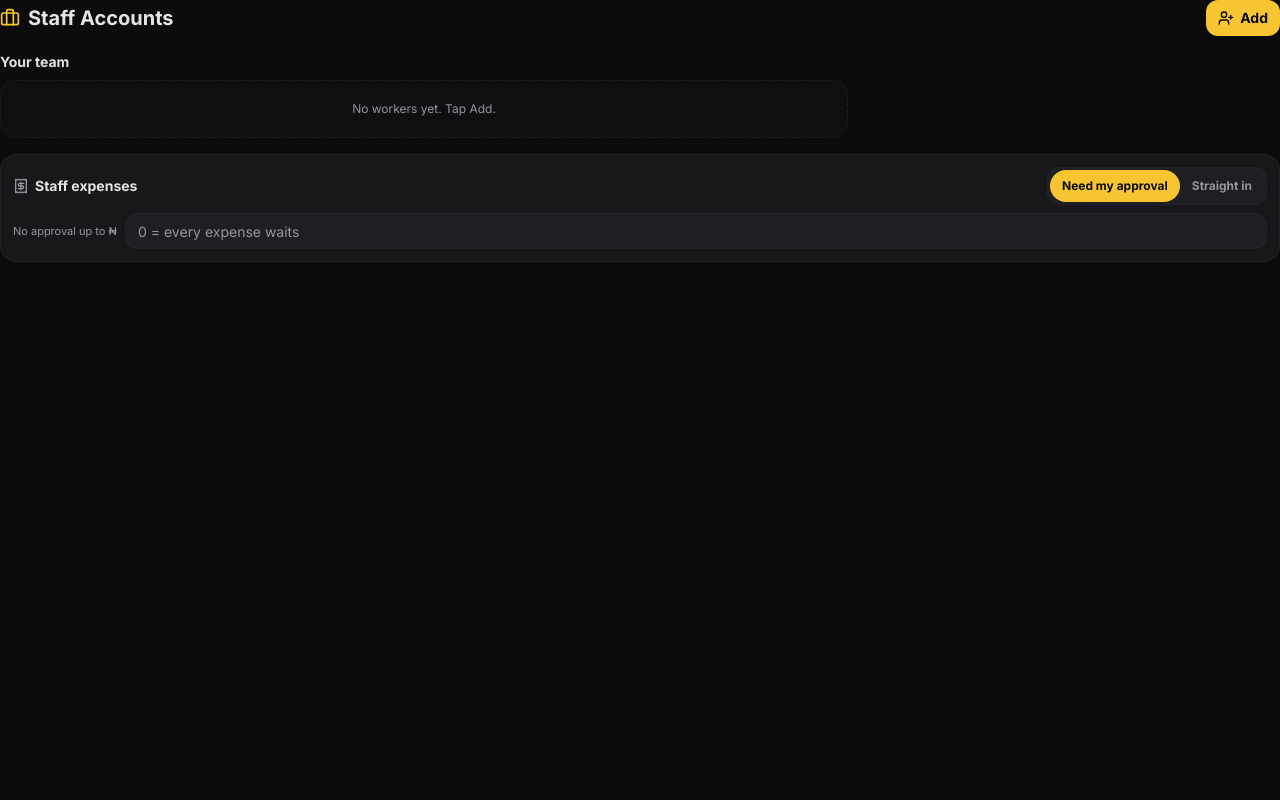
Test case: how a worker is paid › is Monthly, Per piece or None (owner)
Click the button with aria-label "Add Staff Member" at (1243, 18), box 1206,0 -> 1279,36
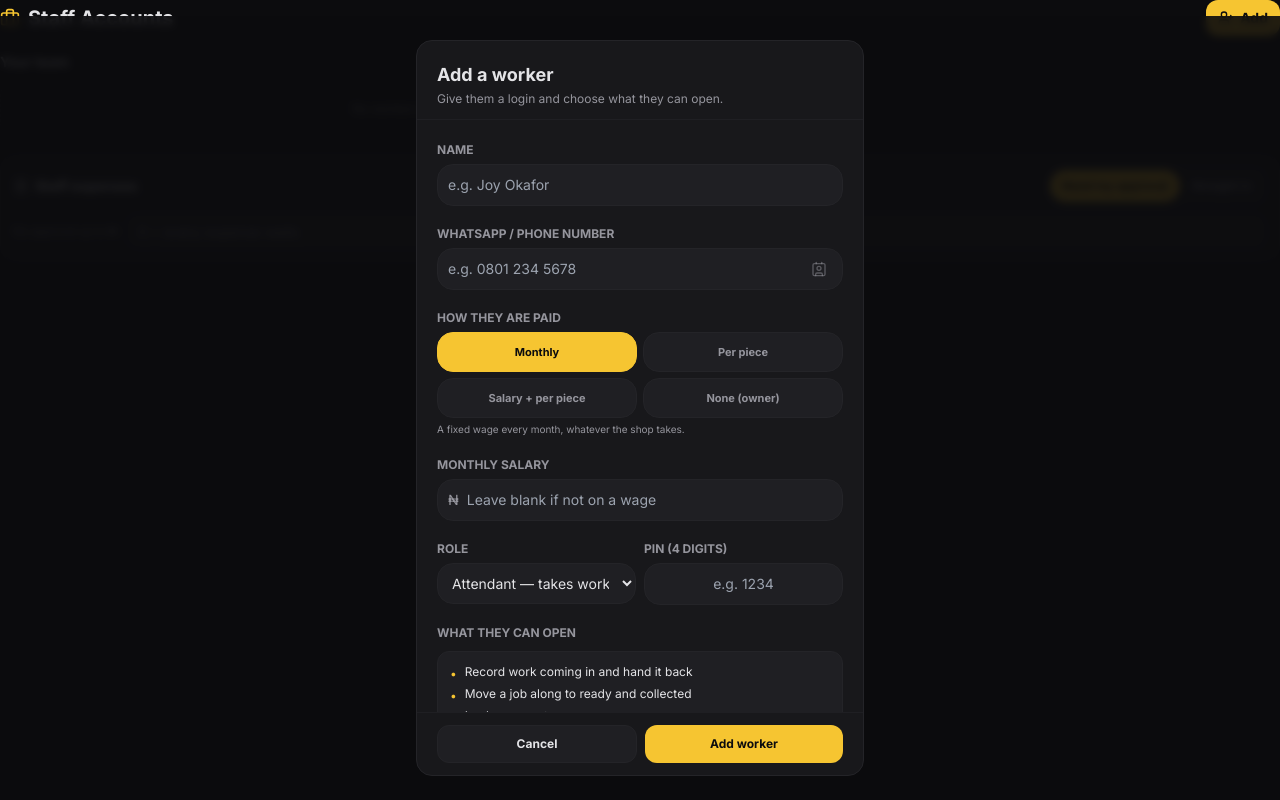
Expected: the button "Monthly" is shown, 437,332 -> 637,372
Expected: the button "Per piece" is shown, 643,332 -> 843,372
Expected: the button "None (owner)" is shown, 643,378 -> 843,418
